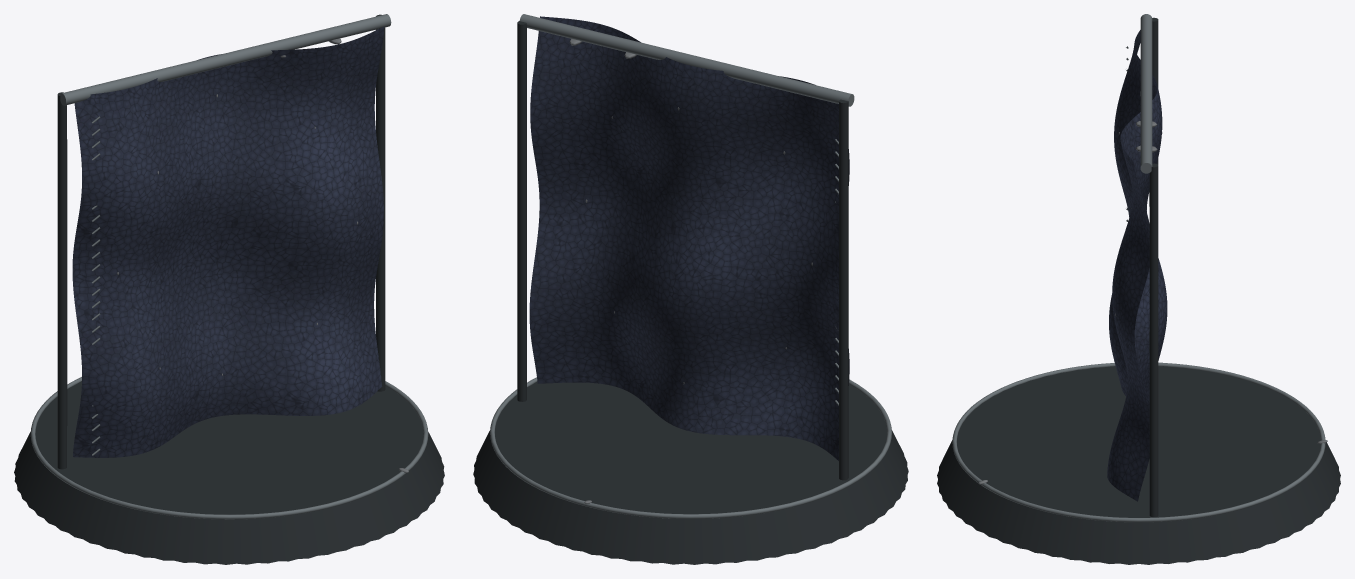
3 renders of one model, left to right at view 1: azimuth 30°, elevation 25°; view 2: azimuth 150°, elevation 25°; view 3: azimuth 270°, elevation 25°, orthographic. The views are drawn at different scales.
Parts seen in each view (by area): view 1: surface specimen, neutral specimen stand, specimen edge; view 2: surface specimen, neutral specimen stand, specimen edge; view 3: neutral specimen stand, surface specimen, specimen edge.
Part boxes in pixels (x1,y1,x2,y2): surface specimen: (72,26,384,457); neutral specimen stand: (14,14,444,564); specimen edge: (30,14,428,519); surface specimen: (529,16,849,460); neutral specimen stand: (473,21,908,564); specimen edge: (490,14,891,518); neutral specimen stand: (937,17,1340,564); surface specimen: (1107,30,1167,501); specimen edge: (952,14,1325,522).
Bounding box in the file's own units: 0.539 × 0.576 × 0.539.
Materials: 4 (1 with a texture image).
